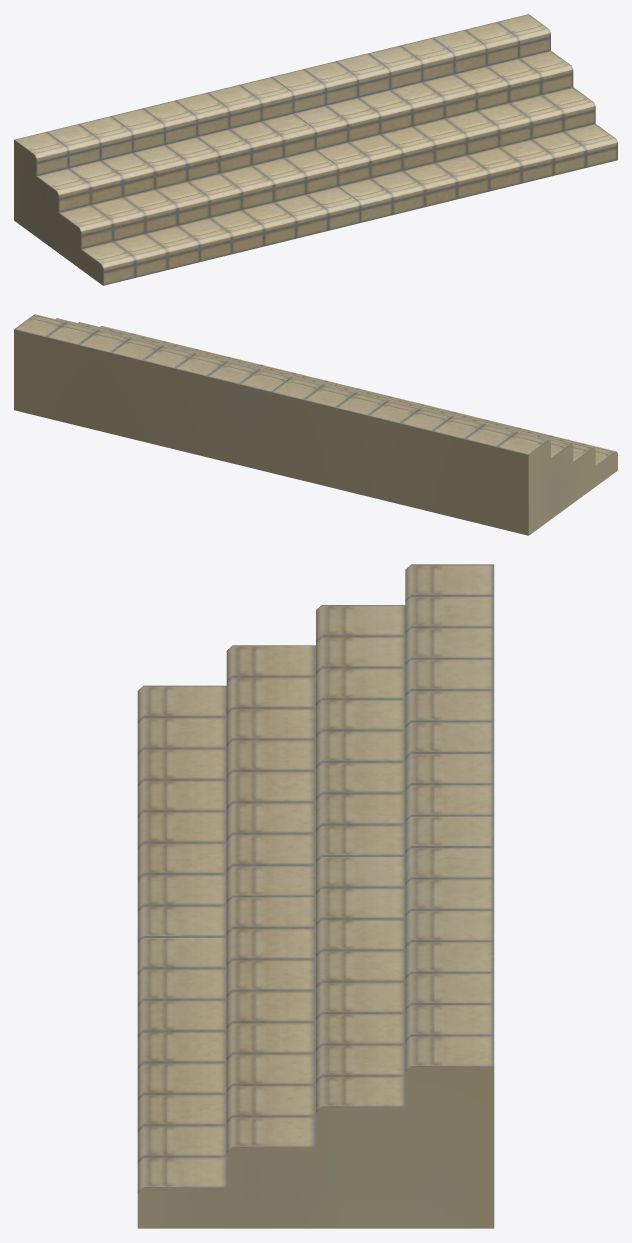
Rendered from set_floor_03b_01_stairs.fbx.
The picture shows the model from 3 angles, top to bottom: view 1: azimuth 30°, elevation 25°; view 2: azimuth 150°, elevation 25°; view 3: azimuth 270°, elevation 25°; orthographic projection. The views are drawn at different scales.
Visible parts, largest first — view 1: set_floor_03b_01_stairs; view 2: set_floor_03b_01_stairs; view 3: set_floor_03b_01_stairs.
Part boxes in pixels (x1,y1,x2,y2): set_floor_03b_01_stairs: [14, 14, 617, 285]; set_floor_03b_01_stairs: [14, 314, 617, 535]; set_floor_03b_01_stairs: [137, 564, 494, 1228].
Size of the model in its own units: 400 by 60 by 120.
